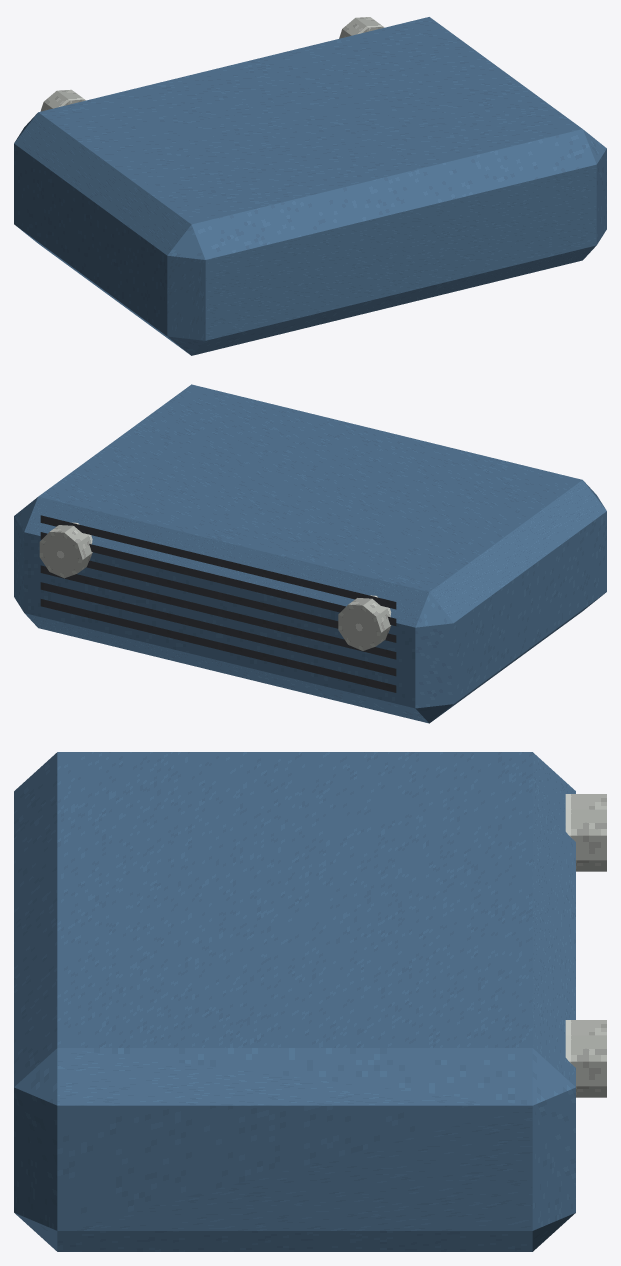
The model's file is amplifier_head.glb.
3 renders of one model, top to bottom at view 1: azimuth 30°, elevation 25°; view 2: azimuth 150°, elevation 25°; view 3: azimuth 270°, elevation 25°, orthographic. The views are drawn at different scales.
Visible parts, largest first — view 1: block_enclosure, block_knob (×2); view 2: block_enclosure, block_speaker slit (×6), block_knob (×2); view 3: block_enclosure, block_knob (×2).
Boxes of the visible parts, left/top/right/bottom form: block_enclosure: left=14, top=17, right=606, bottom=355; block_knob (×2): left=40, top=17, right=383, bottom=111; block_enclosure: left=14, top=384, right=606, bottom=723; block_speaker slit (×6): left=40, top=515, right=396, bottom=692; block_knob (×2): left=39, top=522, right=391, bottom=650; block_enclosure: left=14, top=752, right=575, bottom=1251; block_knob (×2): left=565, top=794, right=606, bottom=1097.
Size of the model in its own units: 0.2711 by 0.0775 by 0.2043.
1 material, 1 textured.
